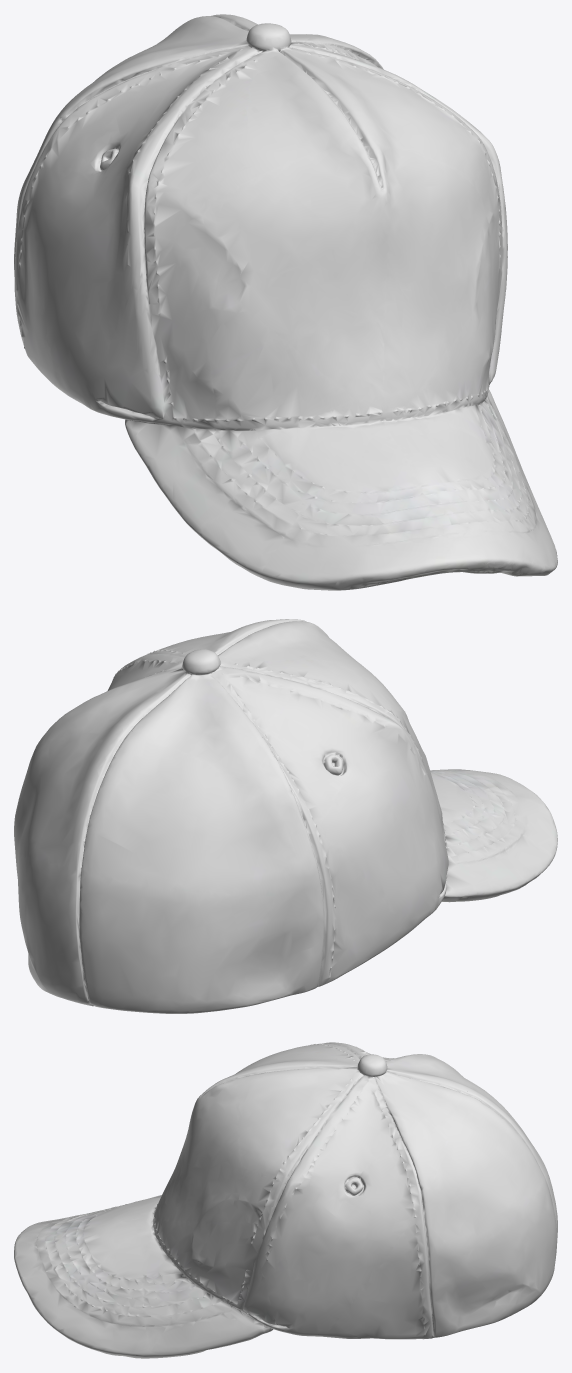
The picture shows the model from 3 angles, top to bottom: view 1: azimuth 30°, elevation 25°; view 2: azimuth 150°, elevation 25°; view 3: azimuth 270°, elevation 25°; orthographic projection. The views are drawn at different scales.
Parts seen in each view (by area): view 1: tripo_node_76e252cb-beff-4697-9fcf-f9952dc3ae49; view 2: tripo_node_76e252cb-beff-4697-9fcf-f9952dc3ae49; view 3: tripo_node_76e252cb-beff-4697-9fcf-f9952dc3ae49.
Part boxes in pixels (bbox=[...]): tripo_node_76e252cb-beff-4697-9fcf-f9952dc3ae49: bbox=[14, 14, 557, 590]; tripo_node_76e252cb-beff-4697-9fcf-f9952dc3ae49: bbox=[14, 619, 557, 1013]; tripo_node_76e252cb-beff-4697-9fcf-f9952dc3ae49: bbox=[14, 1042, 557, 1358].
Bounding box in the file's own units: 0.6504 × 0.6147 × 1.11.
1 material, 1 textured.
